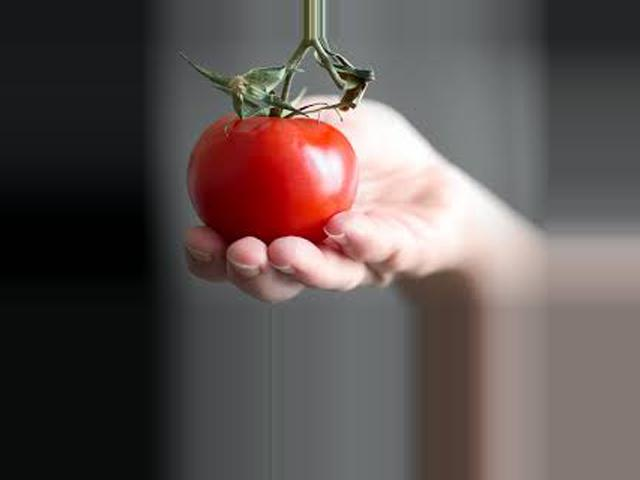tomato: (186, 111, 357, 244)
